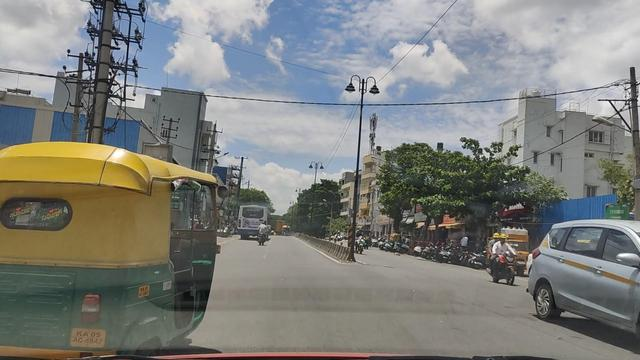LMV: (5, 141, 224, 360)
